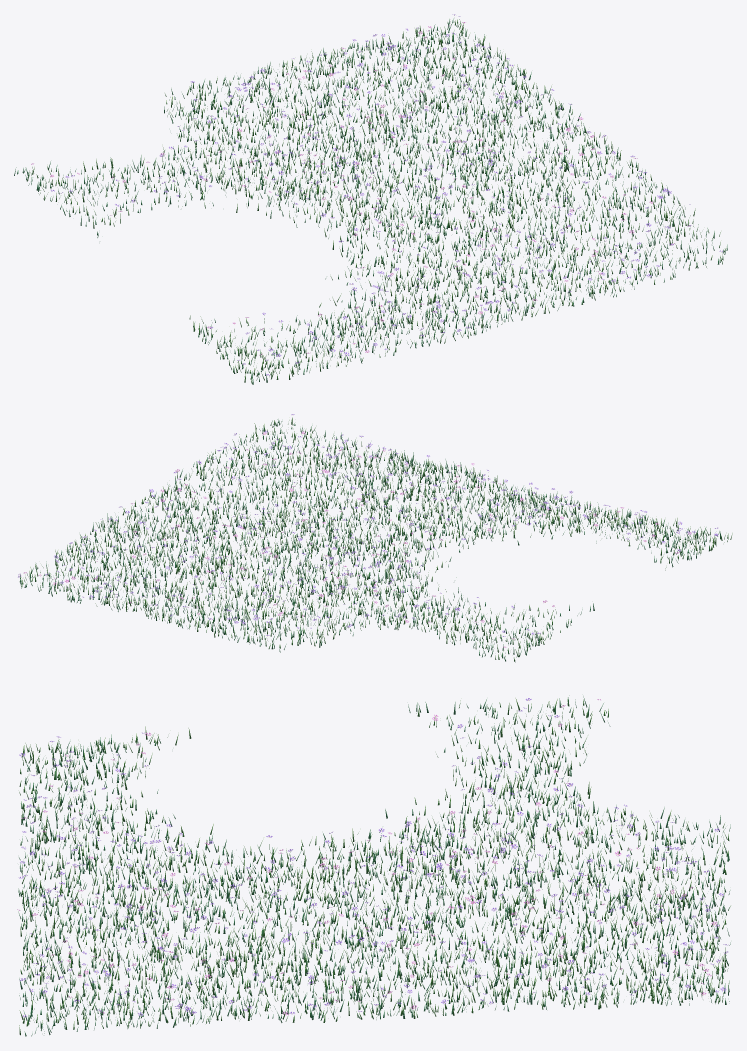
3 renders of one model, top to bottom at view 1: azimuth 30°, elevation 25°; view 2: azimuth 150°, elevation 25°; view 3: azimuth 270°, elevation 25°, orthographic. The views are drawn at different scales.
Visible parts, largest first — view 1: gc_11; view 2: gc_11; view 3: gc_11.
Part boxes in pixels (x1,y1,x2,y2): gc_11: (14, 14, 727, 384); gc_11: (18, 414, 732, 662); gc_11: (17, 695, 730, 1036).
Bounding box in the file's own units: 18.2 × 1.91 × 18.24.
1 material, 1 textured.
